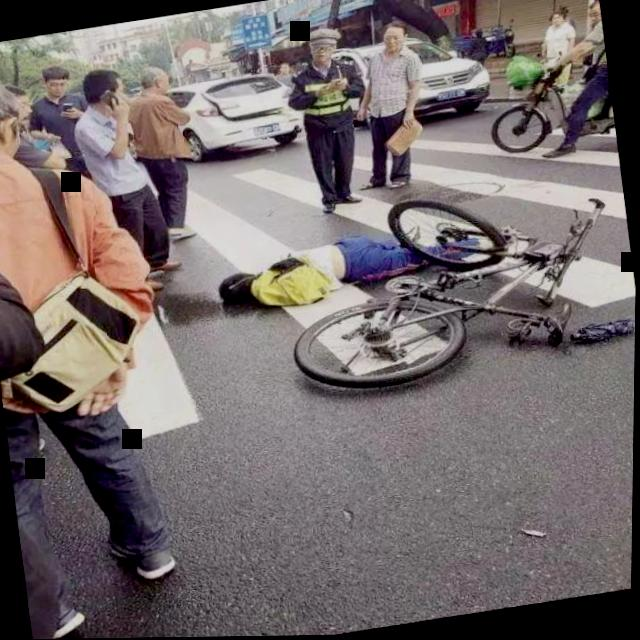Fall-Detected: (199, 199, 490, 334)
